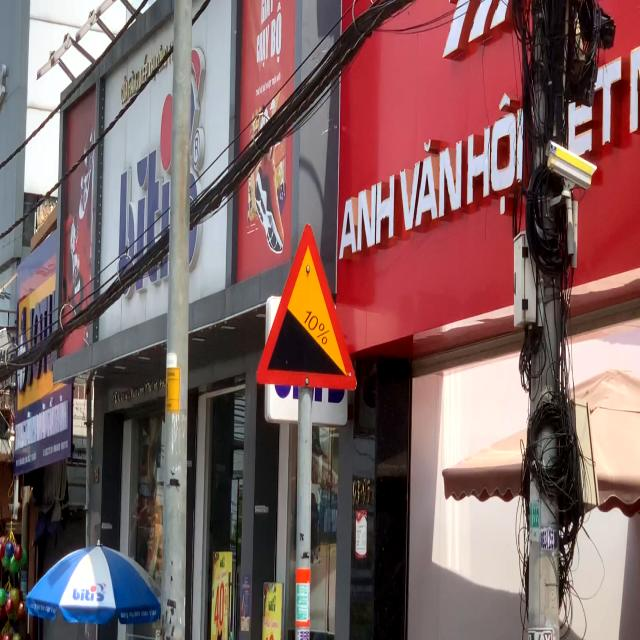W.219: (252, 216, 364, 402)
